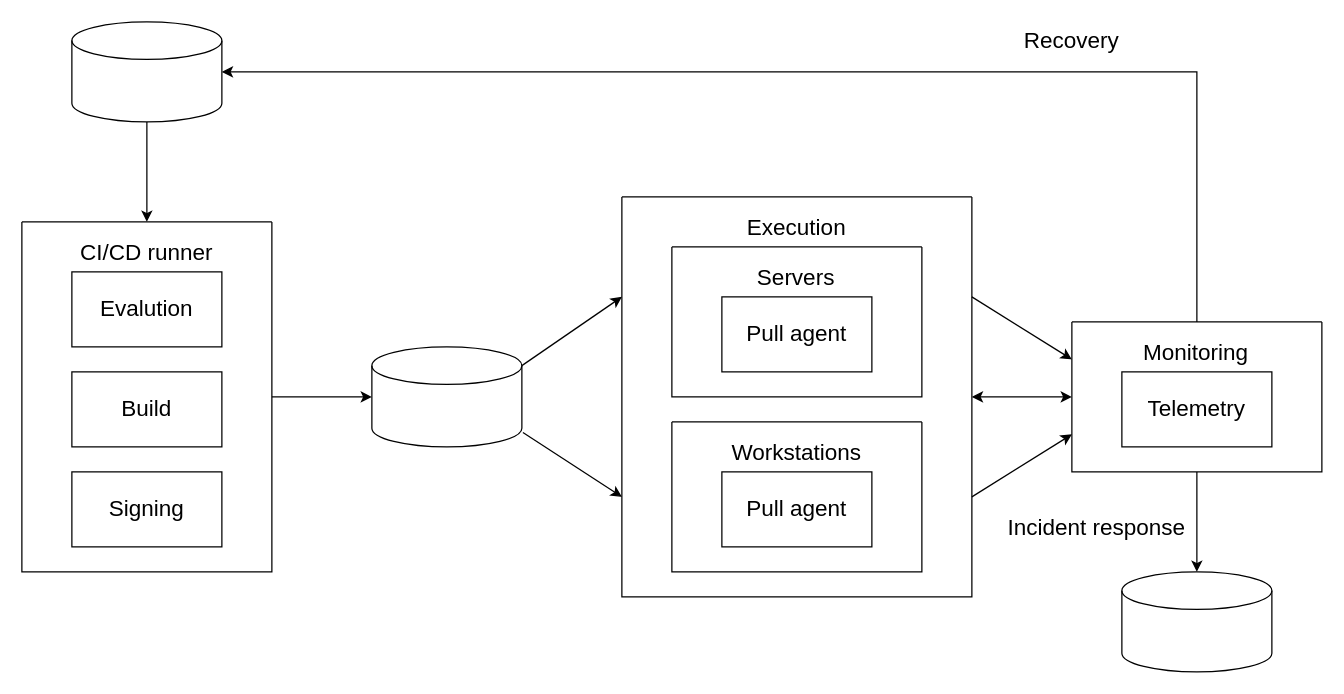
Some shapes in this 1344 by 694 pixel diagram are drawn without their labels. The centre of each missing label's shape, as x and y in pixels:
"Binary cache" goes at (x=446, y=396).
"Git repository" goes at (x=146, y=71).
"Logging collector" goes at (x=1196, y=621).
